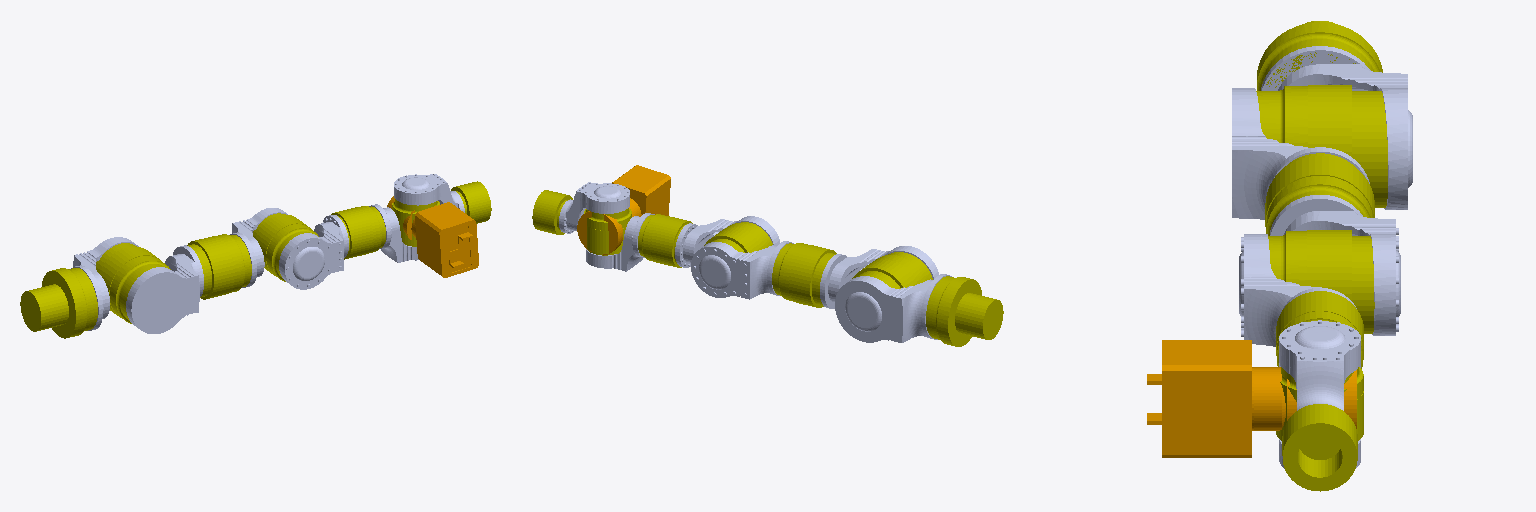
The robot description file, URDF, robot "SingleArm":
<?xml version="1.0" ?>
<!-- @file SingleArm.urdf -->
<!-- @author [author] -->
<!-- @date March 22, 2018 -->
<!-- @brief This file contains the .urdf definition for a single LWA3 arm. -->

<robot name = "SingleArm">

	<link name = "world" />

	<link name = "Bracket"> 
	    <inertial>
		    <!-- The inertial parameters of the Bracket don't matter. Set to zero -->
	      <mass value="0"/>
	      <inertia ixx="0" ixy="0" ixz="0" iyy="0" iyz="0" izz="0"/>
				<!-- offseted with 0.0827 because the origin of the bracket is at the bottom -->
	      <origin xyz="0 0 0"/>
	    </inertial>
		<visual> 
			<geometry> 
				<mesh filename="../scenes/bracket.dae" />
			</geometry> 
		</visual> 
		<collision> 
			<origin xyz="0.0012875 0.0582 -0.0280530"/> 
			<geometry> 
				<box size="0.2815 0.23 0.22611"/> 
			</geometry> 
		</collision> 
	</link>

	<link name = "L1"> 
	    <inertial>
	      <mass value="7.35"/>
	      <inertia ixx="0.0381" ixy="0.0104" ixz="0" iyy="0.0187" iyz="0" izz="0.0430"/>
	      <origin xyz="0.0217 -0.0691 0"/>
	    </inertial>
	<visual> 
		<geometry> 
			<mesh filename="../scenes/Schunk/L1.dae" /> 
		</geometry> 
	</visual> 
	<collision> 
		<origin xyz="0.015 -0.080866 0.0"/> 
		<geometry> 
			<box size="0.16 0.29367 0.13188"/> 
		</geometry> 
	</collision> 
	</link>

	<link name = "L2"> 
    <inertial>
      <mass value="6.1405"/>
      <!-- <inertia ixx="0.0504" ixy="0.0006" ixz="0" iyy="0.0178" iyz="0" izz="0.0579"/> -->
	  <inertia ixx="0.0320" ixy="0.0097" ixz="0" iyy="0.0134" iyz="0" izz="0.0350"/>
      <origin xyz="0.0269 -0.0548 0"/>
    </inertial>
		<visual> <geometry> <mesh filename="../scenes/Schunk/L2.dae" /> </geometry> </visual> 
		<collision> <origin xyz="0.017042 -0.058309 0.0"/> <geometry> <box size="0.14591 0.24658 0.13"/> </geometry> </collision> 
	</link>

	<link name = "L3"> 
    <inertial>
      <mass value="4.531"/>
      <!-- <inertia ixx="0.0354" ixy="-0.0003" ixz="0" iyy="0.01" iyz="0" izz="0.0394"/> -->
      <inertia ixx="0.0180" ixy="0.005" ixz="0" iyy="0.0084" iyz="0" izz="0.0204"/>
	  <origin xyz="0.0188 -0.00619 0"/>
    </inertial>
		<visual> <geometry> <mesh filename="../scenes/Schunk/L3.dae" /> </geometry> </visual> 
		<collision> <origin xyz="0.014000 -0.075113 0.0"/> <geometry> <box size="0.13800 0.26217 0.11189"/> </geometry> </collision> 
	</link>

	<link name = "L4"> 
    <inertial>
      <mass value="3.2245"/>
      <!-- <inertia ixx="0.0209" ixy="0.0003" ixz="0" iyy="0.0067" iyz="0" izz="0.0239"/> -->
    <inertia ixx="0.0133" ixy="0.004" ixz="0" iyy="0.0049" iyz="0" izz="0.0145"/>  
	<origin xyz="0.0238 -0.0484 0"/>
    </inertial>
		<visual> <geometry> <mesh filename="../scenes/Schunk/L4.dae" /> </geometry> </visual> 
		<collision> <origin xyz="0.018200 -0.052050 0.0"/> <geometry> <box size="0.12960 0.2141 0.11"/> </geometry> </collision> 
	</link>

	<link name = "L5"> 
    <inertial>
      <mass value="2.318"/>
      <!-- <inertia ixx="0.012" ixy="-0.0002" ixz="0" iyy="0.0035" iyz="0" izz="0.0135"/> -->
      <inertia ixx="0.0063" ixy="0.0017" ixz="0" iyy="0.0029" iyz="0" izz="0.0072"/>
	  <origin xyz="0.0166 -0.0494 0"/>
    </inertial>
		<visual> 
			<geometry> 
				<mesh filename="../scenes/Schunk/L5.dae" />
			</geometry> 
		</visual> 
		<collision> <origin xyz="0.0145115 -0.0571105 0.0000425" rpy="-1.57 0 0"/> <geometry> <box size="0.117977 0.204179 0.089915"/> </geometry> </collision> 
	</link>

	<link name = "L6"> 
    <inertial>
      <mass value="2.318"/>
      <!-- <inertia ixx="0.0104" ixy="0" ixz="0" iyy="0.0041" iyz="0" izz="0.0125"/> -->
      <inertia ixx="0.0071" ixy="0.0020" ixz="0" iyy="0.0029" iyz="0" izz="0.008"/>
	  <origin xyz="0.0232 -0.0377 0"/>
    </inertial>
		<visual> <geometry> <mesh filename="../scenes/Schunk/L6.dae" /> </geometry> </visual> 
		<collision> <origin xyz="0.0175015 -0.0481615 0.0"/> <geometry> <box size="0.111977 0.185277 0.089"/> </geometry> </collision> 
	</link>
	
	<link name = "L7_EFF"> 
    <inertial>
      <mass value="2.3838"/>
      <!-- <inertia ixx="0.0126" ixy="0" ixz="0" iyy="0.013" iyz="0" izz="0.0027"/> -->
      <inertia ixx="0.0104" ixy="0" ixz="0" iyy="0.0108" iyz="0" izz="0.0027"/>
	  <origin xyz="0 0 0.0306"/>
    </inertial>
		<visual> <geometry> <mesh filename="../scenes/Schunk/L7_EFF.dae" /> </geometry> </visual> 
		<!-- Collision parameters need to be edited -->
		<collision> <origin xyz="0.0175015 -0.0481615 0.0"/> <geometry> <box size="0.111977 0.185277 0.089"/> </geometry> </collision> 
	</link>


	<joint name = "fix_arm_to_world" type="fixed">
		<parent link = "world"/>
		<child link = "Bracket"/>
	</joint>

	<joint name="LJ1" type="revolute"> <parent link="Bracket" /> <child link="L1" />
		<origin xyz = "0.2823 0.0845 0" rpy="0 3.1416 -1.5708" />
		<axis xyz="0 -1 0" /> <limit effort="1000" lower="-3.1416" upper="3.1416" velocity="0.1" />
	</joint>
	<joint name="LJ2" type="revolute"> <parent link="L1" /> <child link="L2" />
		<origin xyz="0 0.0 0" rpy="-3.1416 3.1416 0" />
		<axis xyz="-1 0 0" /> <limit effort="1000" lower="-2.094" upper="2.094" velocity="0.1" />
	</joint>

	<joint name="LJ3" type="revolute"> <parent link="L2" /> <child link="L3" />
		<origin xyz="0 -0.328 0" rpy="-3.1416 -3.1416 0" />
		<axis xyz="0 -1 0" /> <limit effort="1000" lower="-4.7124" upper="4.7124" velocity="0.1" />
	</joint>

	<joint name="LJ4" type="revolute"> <parent link="L3" /> <child link="L4" />
		<origin xyz="0 0 0" rpy="3.1416 3.1416 0" />
		<axis xyz="-1 0 0" /> <limit effort="1000" lower="-2.094" upper="2.094" velocity="0.1" />
	</joint>

	<joint name="LJ5" type="revolute"> <parent link="L4" /> <child link="L5" />
		<origin xyz="0 -0.2765 0" rpy="3.1416 4.7124 0" />
		<axis xyz="0 -1 0" /> <limit effort="1000" lower="-4.7124" upper="4.7124" velocity="0.1" />
	</joint>

	<joint name="LJ6" type="revolute"> <parent link="L5" /> <child link="L6" />
		<origin xyz="0 0 0" rpy="3.1416 3.1416 0" />
		<axis xyz="-1 0 0" /> <limit effort="1000" lower="-2.094" upper="2.094" velocity="0.1" />
	</joint>
	
	<joint name="LJ7" type="revolute"> <parent link="L6" /> <child link="L7_EFF" />
		<origin xyz="0 -0.184 0" rpy="1.57 0 0" />
		<origin xyz="0 0 0" rpy="0 0 0" />
		<axis xyz="0 0 1" /> <limit effort="1000" lower="-2.094" upper="2.094" velocity="0.1" />
	</joint>

</robot>

--- What the picture shows (computed from the rendered views, not written in the file) ---
Views: 3 orthographic renders of the robot side by side, from view 1: azimuth 30°, elevation 25°; view 2: azimuth 150°, elevation 25°; view 3: azimuth 270°, elevation 25°.
Robot: SingleArm — 9 links, 8 joints (7 revolute, 1 fixed); root link world; default pose: every joint at zero.
Visible links, largest first — view 1: L2, L1, L4, L7_EFF, L6, L3, L5; view 2: L1, L3, L2, L6, L4, L7_EFF, L5; view 3: L1, L7_EFF, L3, L6, L2, L4, L5.
Link boxes in pixels (left/top/right/bottom): L2: left=109, top=236, right=234, bottom=333; L1: left=20, top=237, right=159, bottom=338; L4: left=266, top=207, right=373, bottom=289; L7_EFF: left=387, top=196, right=478, bottom=277; L6: left=392, top=174, right=491, bottom=223; L3: left=217, top=208, right=310, bottom=292; L5: left=359, top=204, right=418, bottom=262; L1: left=835, top=259, right=1003, bottom=346; L3: left=691, top=227, right=807, bottom=301; L2: left=789, top=245, right=938, bottom=308; L6: left=532, top=182, right=631, bottom=234; L4: left=650, top=216, right=779, bottom=267; L7_EFF: left=577, top=165, right=670, bottom=255; L5: left=586, top=213, right=664, bottom=271; L1: left=1257, top=21, right=1412, bottom=209; L7_EFF: left=1147, top=340, right=1356, bottom=457; L3: left=1266, top=176, right=1400, bottom=335; L6: left=1279, top=320, right=1363, bottom=491; L2: left=1232, top=86, right=1374, bottom=226; L4: left=1239, top=231, right=1363, bottom=355; L5: left=1276, top=311, right=1363, bottom=468.
Bounding box of the posed robot: 0.973 × 0.272 × 0.147 m (x, y, z).
7 mesh visuals loaded from 8 distinct referenced files (7 Collada DAE); not drawn: 1 (file found but could not be loaded).